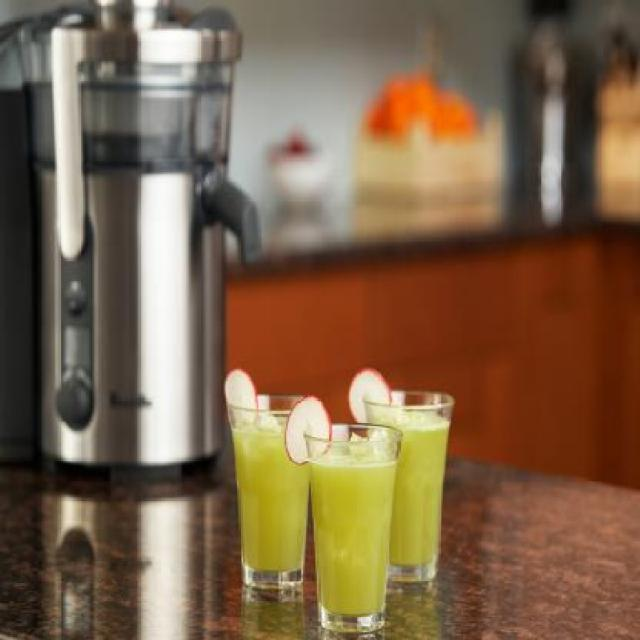Juice: (312, 434, 399, 622), (228, 416, 314, 578), (366, 412, 451, 566)
